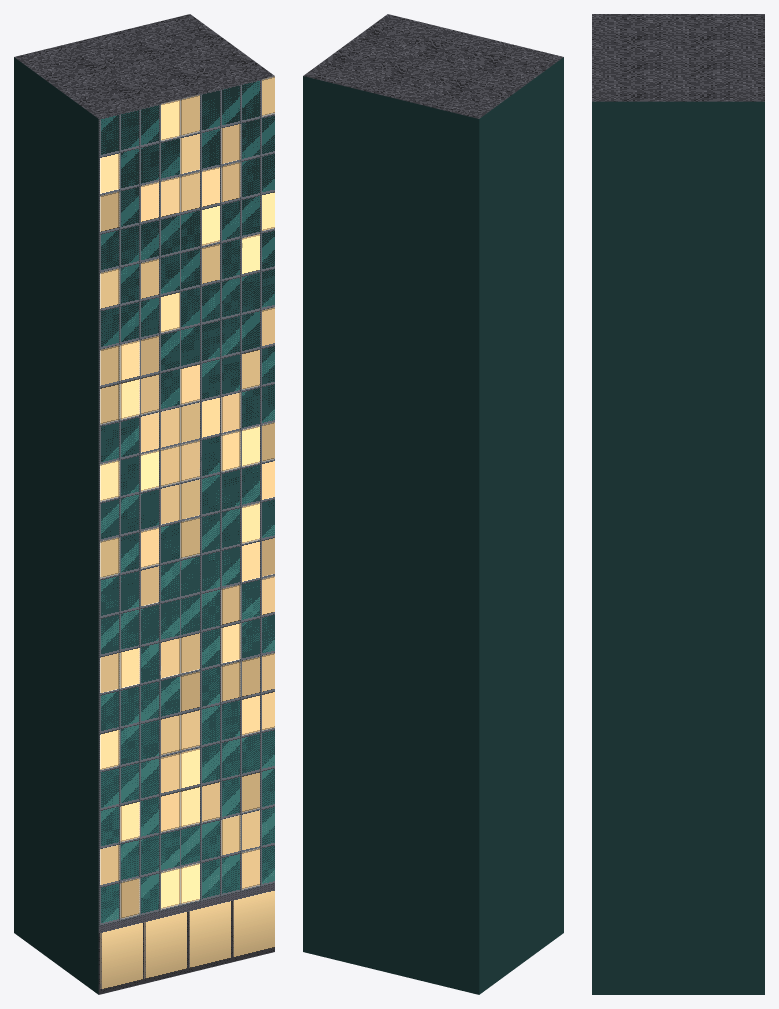
File: Kulisse_12.glb
The picture shows the model from 3 angles, left to right: view 1: azimuth 30°, elevation 25°; view 2: azimuth 150°, elevation 25°; view 3: azimuth 270°, elevation 25°; orthographic projection.
Parts seen in each view (by area): view 1: Kulisse_12; view 2: Kulisse_12; view 3: Kulisse_12.
Part boxes in pixels (x1,y1,x2,y2): Kulisse_12: (14, 14, 274, 994); Kulisse_12: (303, 14, 563, 994); Kulisse_12: (592, 14, 764, 994).
Bounding box in the file's own units: 12 × 57 × 10.
Materials: 3 (2 with a texture image).
